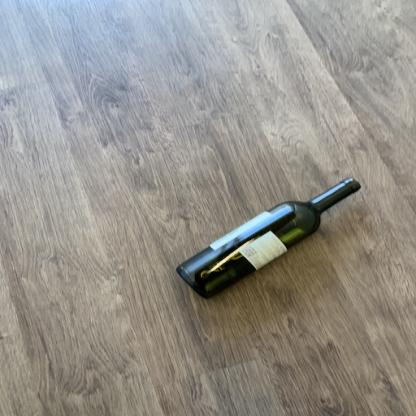trash: (175, 178, 362, 301)
